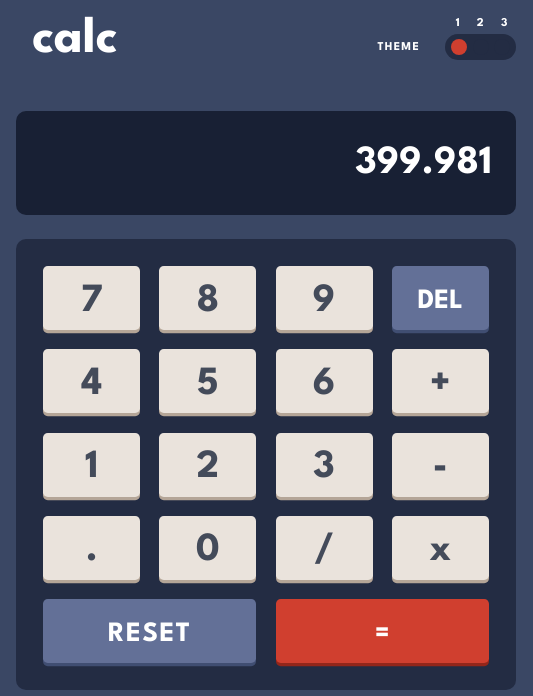
App › delChar removes last character from value
Click the button "del": (440, 298) x1=392 y1=266 x2=489 y2=330
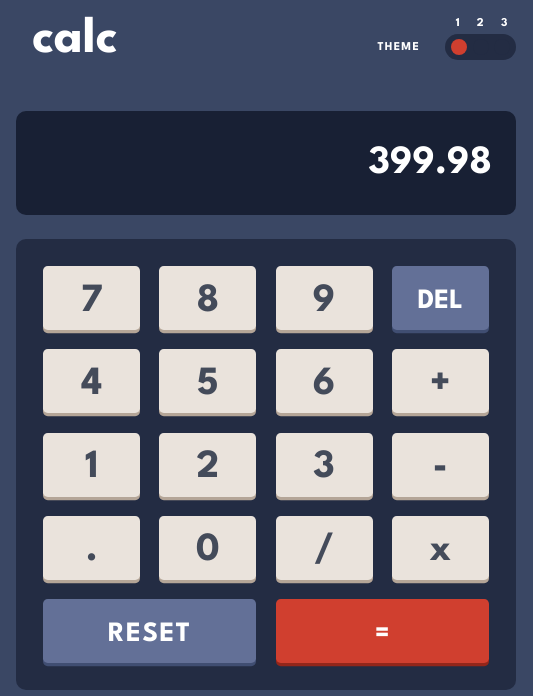
Result: the text with test id "calc-display" reads "399.98" at x1=368 y1=144 x2=492 y2=182
